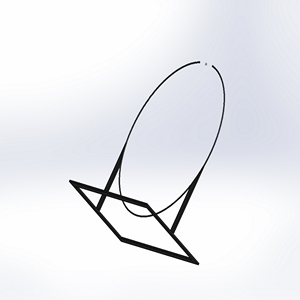circle: (65, 56, 229, 267)
